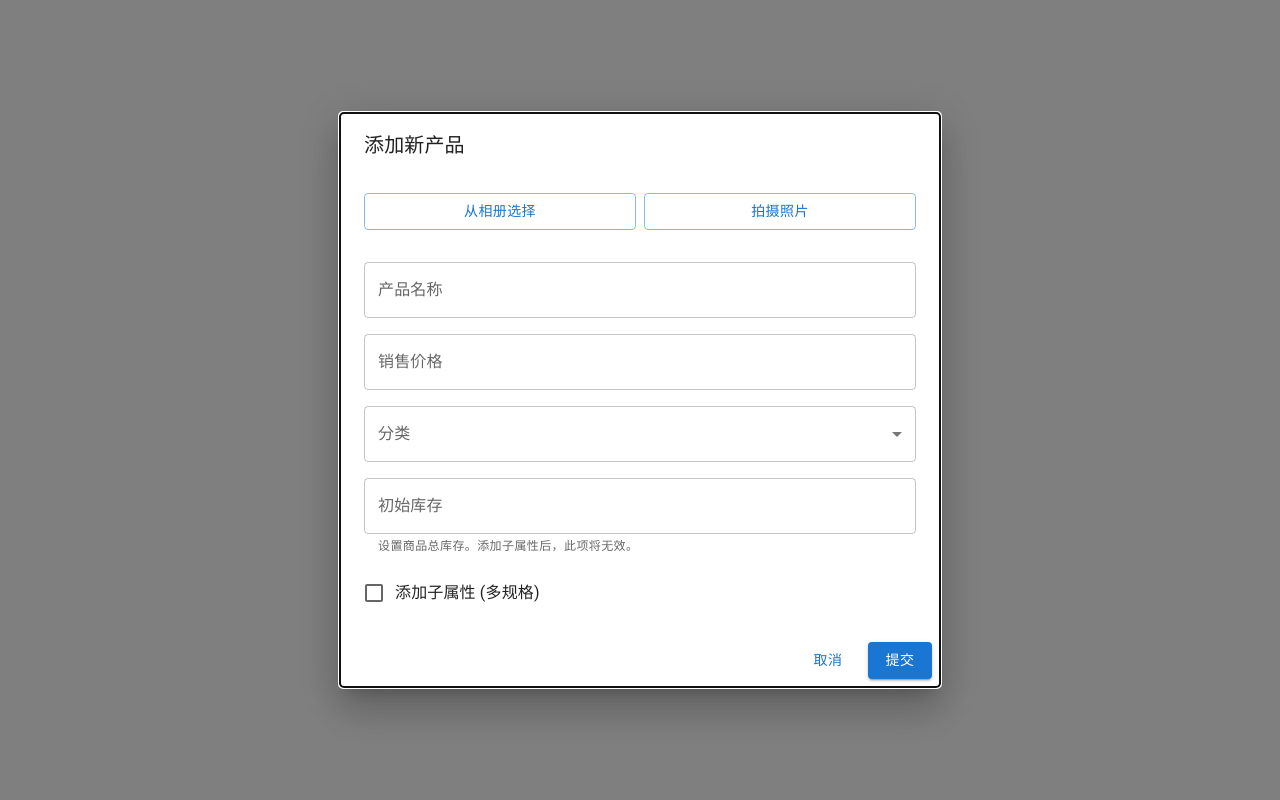
Test case: ProductModal › in Add Mode › shows error if product name already exists
Type "Existing Name" into the field labelled "产品名称".
click(640, 290); type("Existing Name")  # box [364,262,916,318]
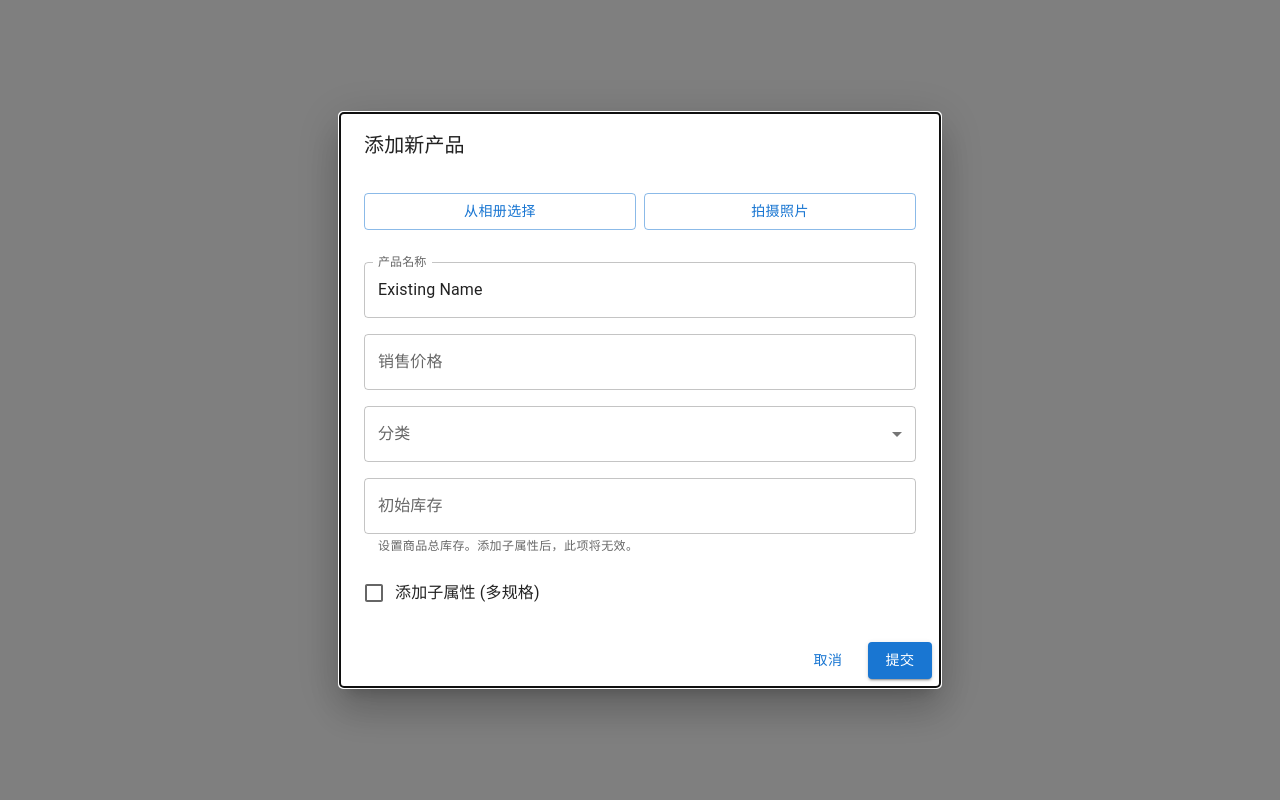
Type "10" into the number field labelled "销售价格".
click(640, 362); type("10")  # box [364,334,916,390]
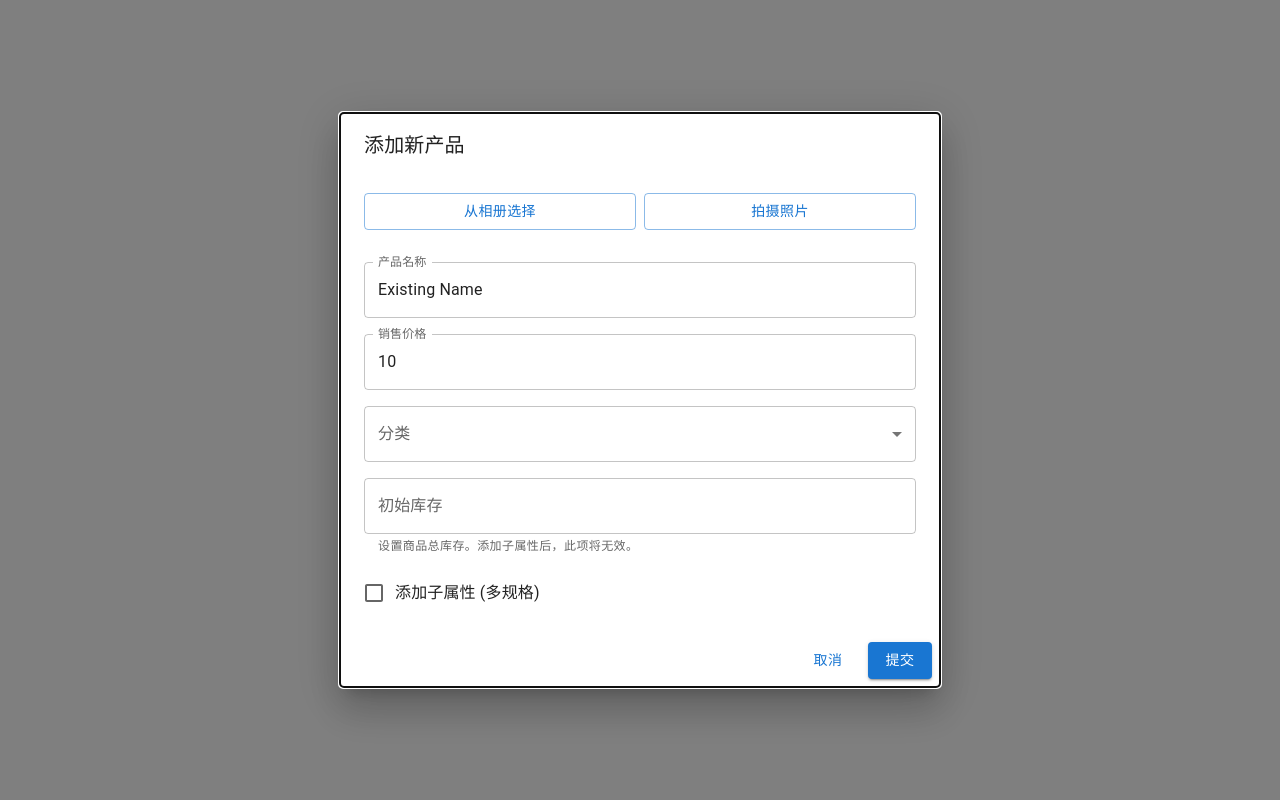
Note: For simple product
Click the button "提交".
click(900, 661)  # box [868,642,932,679]
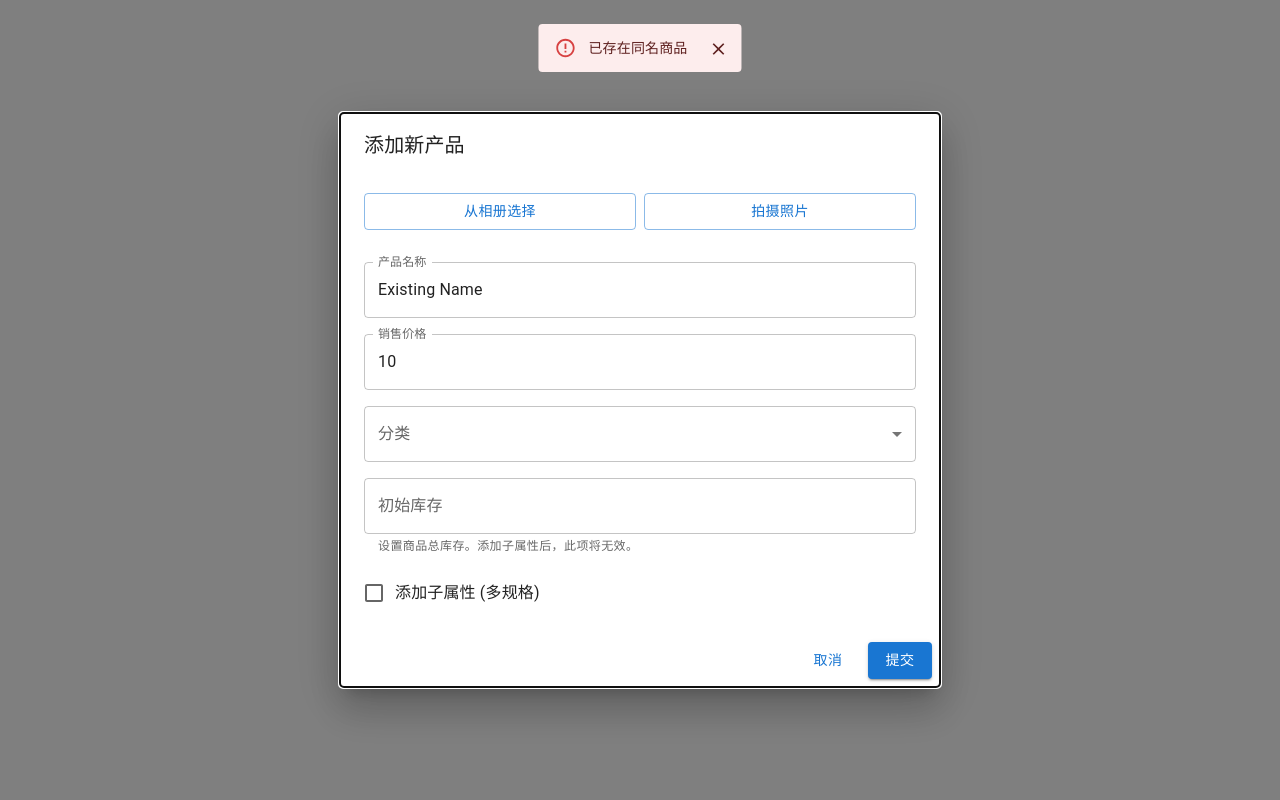
Check: the text "已存在同名商品" is shown, box [588,40,688,56]
